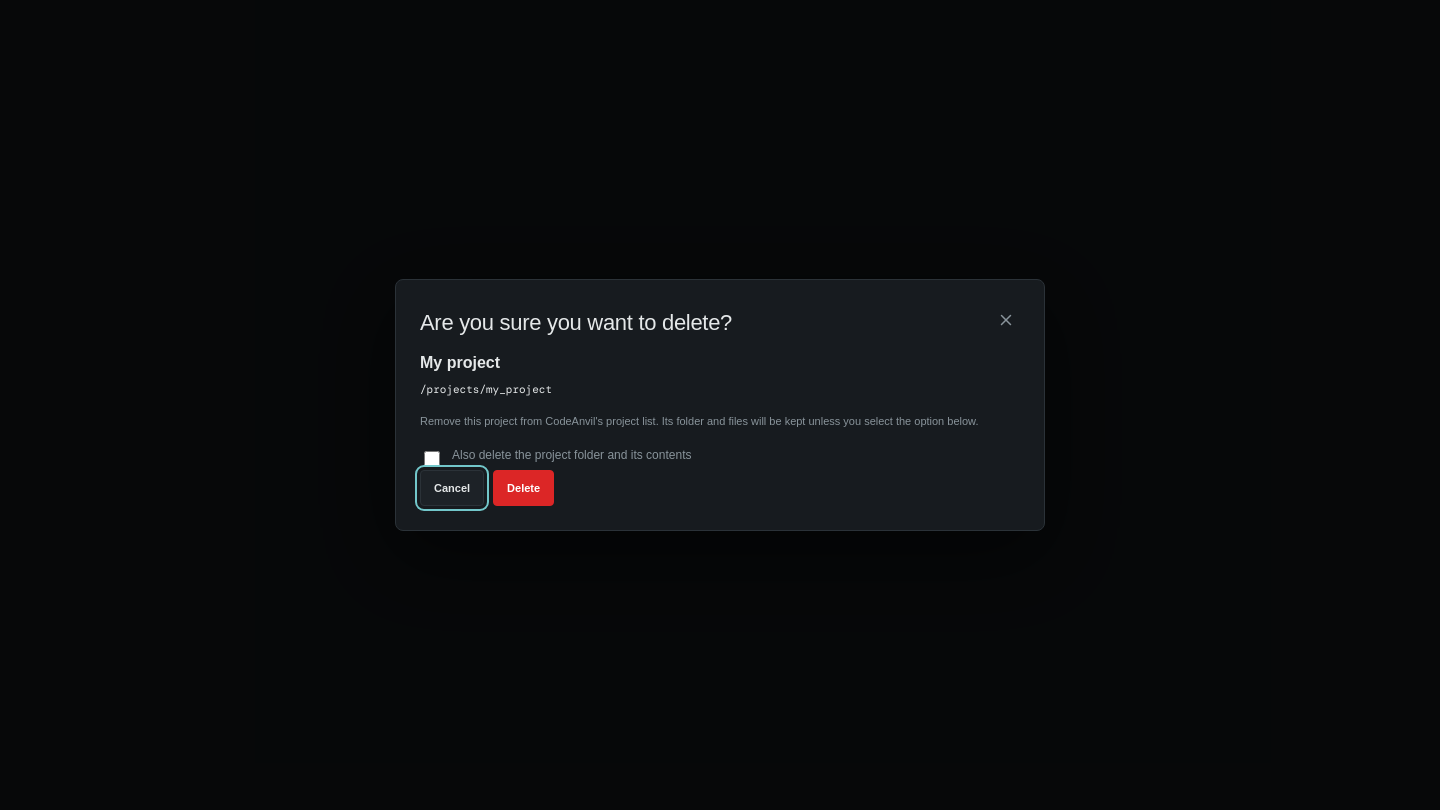
Test: Delete project confirmation › keeps focus inside the busy dialog and waits for server completion
The width and height of the screenshot is (1440, 810).
Later steps or results of the test are not shown.
Click the button "Delete" at [524, 488], box x1=493 y1=470 x2=554 y2=506
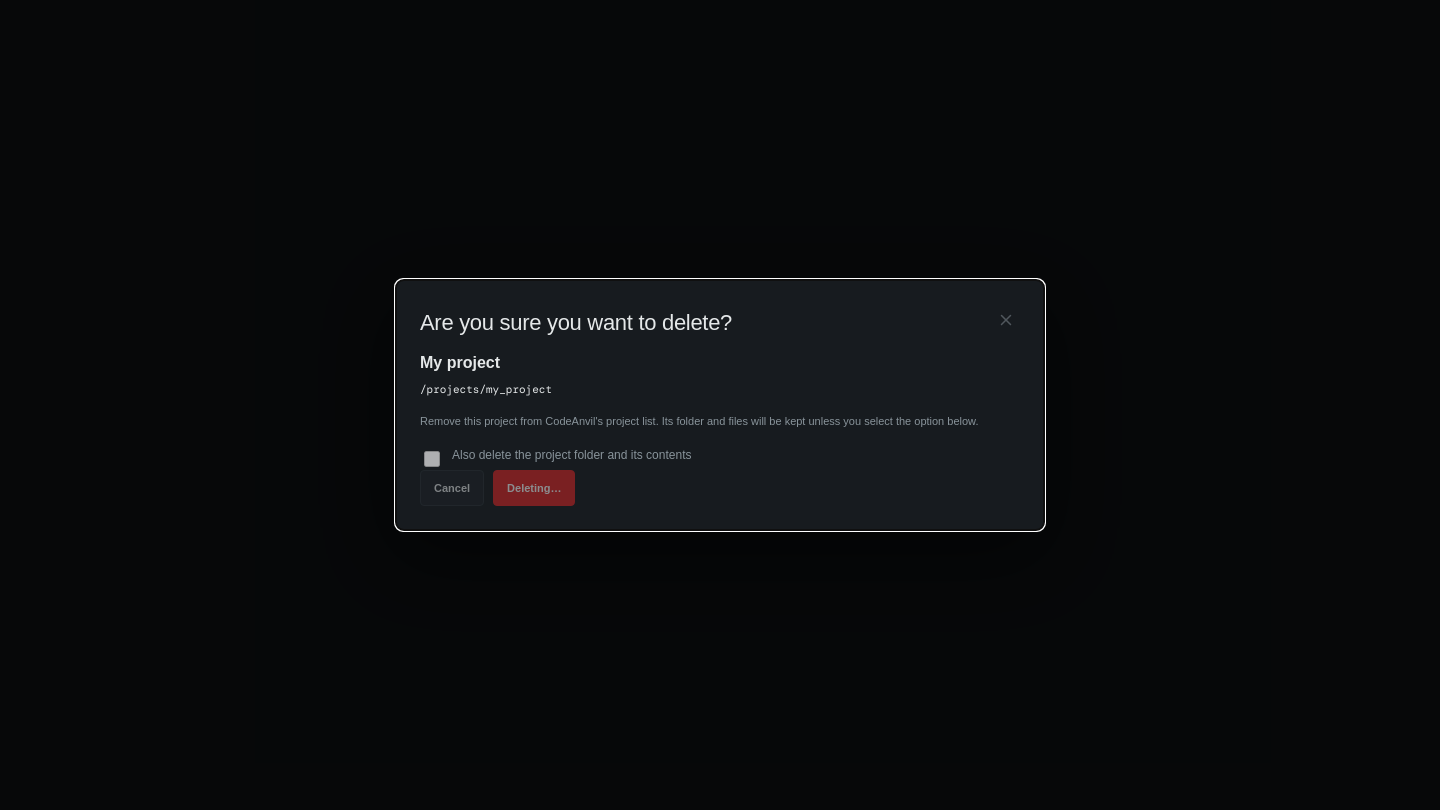
Expected: the button "Deleting…" is disabled, x1=493 y1=470 x2=576 y2=506
